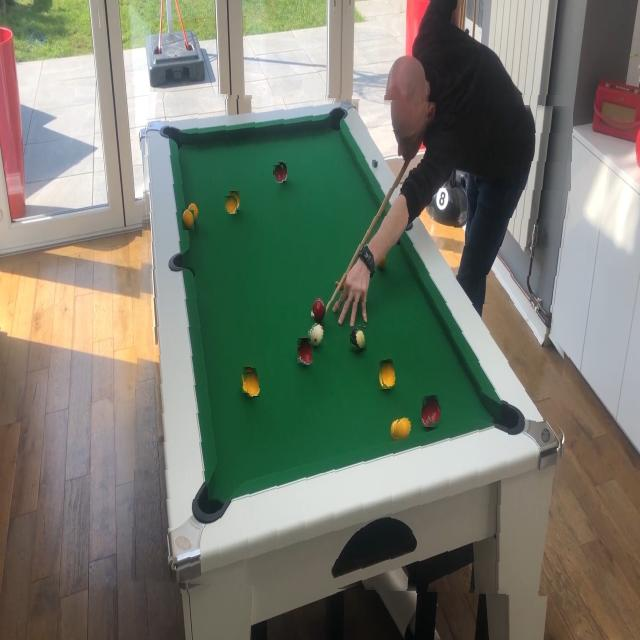Ball: (425, 396, 442, 424), (382, 360, 398, 388), (351, 326, 367, 352), (245, 371, 260, 398), (395, 416, 412, 439), (309, 324, 324, 348), (299, 340, 313, 365), (312, 299, 326, 321), (183, 209, 196, 230), (226, 195, 237, 214), (274, 165, 283, 183)
Billiard table: (136, 95, 570, 593)
